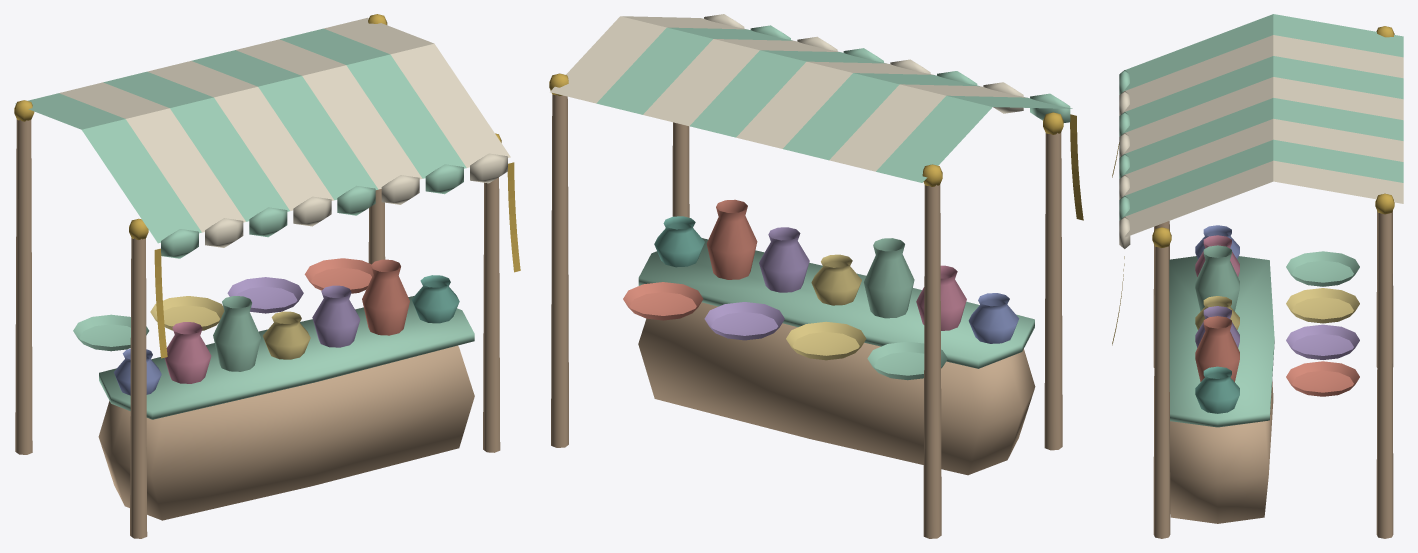
Rendered from fae_market_stall_c.gltf.
The picture shows the model from 3 angles, left to right: view 1: azimuth 30°, elevation 25°; view 2: azimuth 150°, elevation 25°; view 3: azimuth 270°, elevation 25°; orthographic projection. The views are drawn at different scales.
Parts seen in each view (by area): view 1: fae_market_stall_c; view 2: fae_market_stall_c; view 3: fae_market_stall_c.
Boxes of the visible parts, x1,y1,x2,y2 form: fae_market_stall_c: [14, 14, 520, 538]; fae_market_stall_c: [549, 14, 1083, 538]; fae_market_stall_c: [1112, 14, 1403, 538].
Size of what is drawn, in the model's own units: 3.38 by 3.15 by 2.35.
